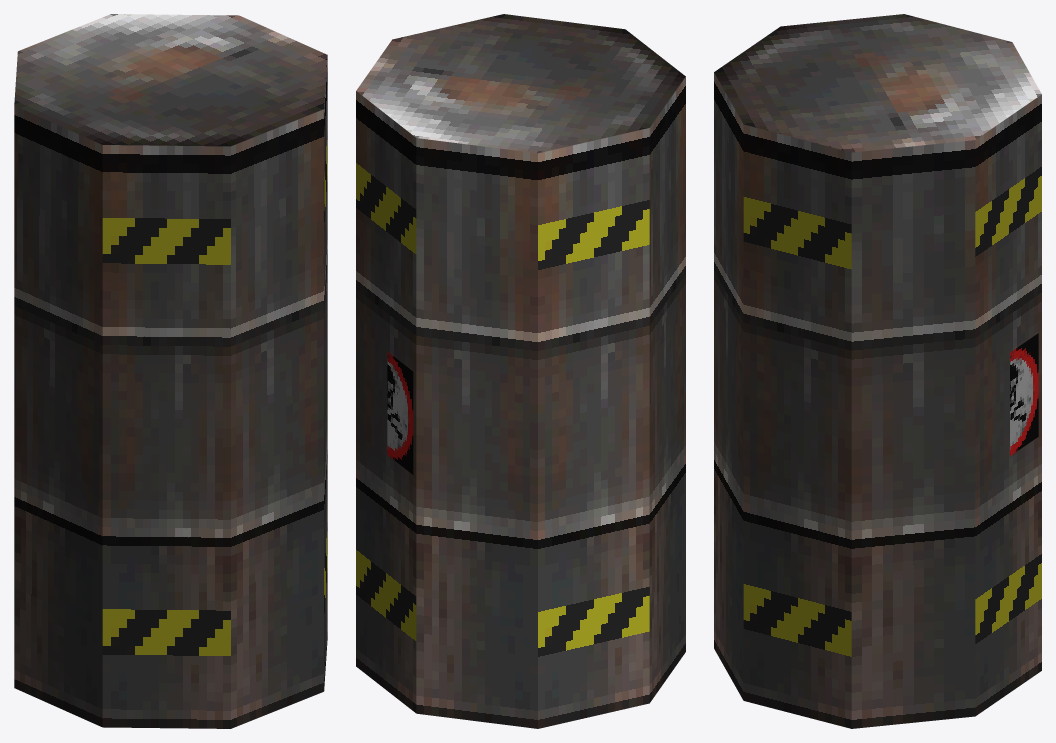
The model's file is primary_373.glb.
3 renders of one model, left to right at view 1: azimuth 30°, elevation 25°; view 2: azimuth 150°, elevation 25°; view 3: azimuth 270°, elevation 25°, orthographic.
Visible parts, largest first — view 1: Object; view 2: Object; view 3: Object.
Boxes of the visible parts, x1,y1,x2,y2 form: Object: [14, 14, 327, 728]; Object: [356, 14, 685, 728]; Object: [714, 14, 1041, 728].
Bounding box in the file's own units: 0.7705 × 1.49 × 0.7705.
Materials: 9 (9 with a texture image).
